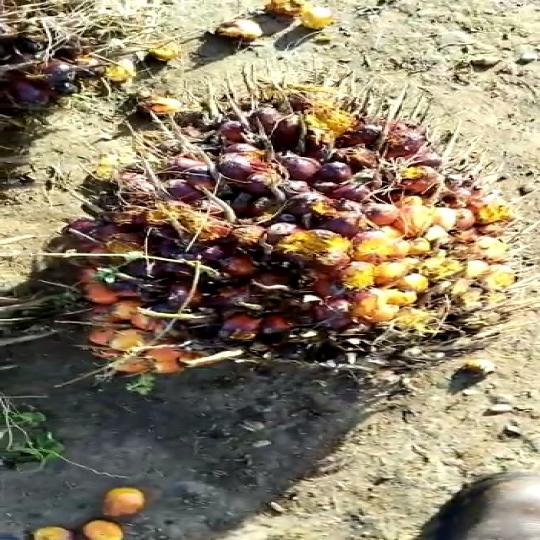masak: (90, 83, 540, 399)
